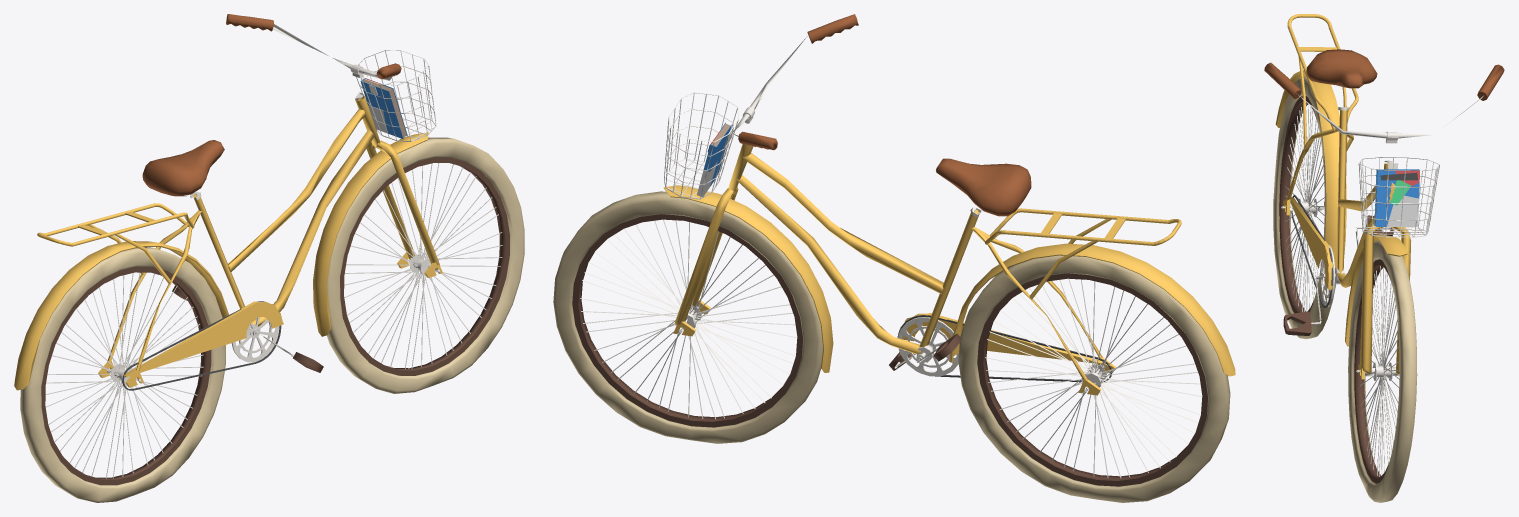
The model's file is bike.glb.
The picture shows the model from 3 angles, left to right: view 1: azimuth 30°, elevation 25°; view 2: azimuth 150°, elevation 25°; view 3: azimuth 270°, elevation 25°; orthographic projection. The views are drawn at different scales.
Visible parts, largest first — view 1: Cylinder.017_Material.006_0, Cylinder.005_Material.001_0, Cylinder.015_Material.002_0, Cylinder.017_Material.004_0, Cylinder.013_Material.005_0, Circle.004_Material.001_0, Cube.007_Material.010_0, Circle.003_Material.002_0, Circle.005_Material.007_0; view 2: Cylinder.017_Material.006_0, Cylinder.005_Material.001_0, Cylinder.015_Material.002_0, Cylinder.017_Material.004_0, Cylinder.013_Material.005_0, Circle.004_Material.001_0, Circle.003_Material.002_0, Circle.005_Material.007_0; view 3: Cylinder.017_Material.006_0, Cylinder.005_Material.001_0, Cylinder.015_Material.002_0, Cylinder.017_Material.004_0, Cylinder.013_Material.005_0, Circle.004_Material.001_0, Cube.007_Material.010_0, Cube.007_Material.008_0, Circle.003_Material.002_0, Circle.005_Material.007_0, Cube.007_Material.009_0.
Boxes of the visible parts, box(x1,y1,x2,y2) form: Cylinder.017_Material.006_0: box(20, 137, 524, 502); Cylinder.005_Material.001_0: box(14, 95, 442, 390); Cylinder.015_Material.002_0: box(45, 24, 502, 478); Cylinder.017_Material.004_0: box(41, 157, 509, 485); Cylinder.013_Material.005_0: box(142, 14, 401, 196); Circle.004_Material.001_0: box(123, 301, 283, 377); Cube.007_Material.010_0: box(360, 78, 407, 139); Circle.003_Material.002_0: box(231, 317, 278, 362); Circle.005_Material.007_0: box(122, 301, 281, 390); Cylinder.017_Material.006_0: box(553, 191, 1230, 502); Cylinder.005_Material.001_0: box(663, 144, 1235, 395); Cylinder.015_Material.002_0: box(580, 36, 1202, 478); Cylinder.017_Material.004_0: box(572, 214, 1207, 486); Cylinder.013_Material.005_0: box(738, 14, 1031, 216); Circle.004_Material.001_0: box(900, 313, 1111, 366); Circle.003_Material.002_0: box(898, 317, 958, 376); Circle.005_Material.007_0: box(897, 315, 1111, 382); Cylinder.017_Material.006_0: box(1273, 77, 1417, 502); Cylinder.005_Material.001_0: box(1275, 14, 1411, 379); Cylinder.015_Material.002_0: box(1281, 93, 1483, 476); Cylinder.017_Material.004_0: box(1279, 96, 1393, 483); Cylinder.013_Material.005_0: box(1264, 49, 1504, 100); Circle.004_Material.001_0: box(1290, 197, 1332, 289); Cube.007_Material.010_0: box(1374, 169, 1419, 226); Cube.007_Material.008_0: box(1387, 195, 1418, 226); Circle.003_Material.002_0: box(1320, 227, 1390, 306); Circle.005_Material.007_0: box(1291, 195, 1332, 307); Cube.007_Material.009_0: box(1390, 180, 1411, 205).
Size of the model in its own units: 496 by 317 by 183.
